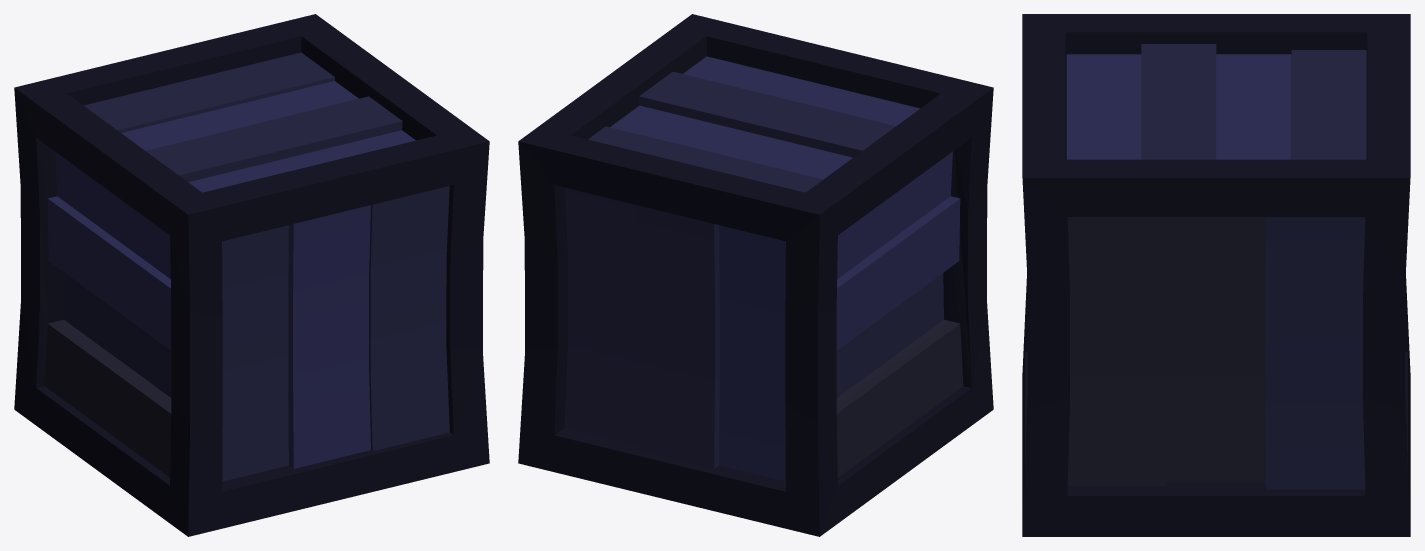
File: Crate2.fbx
3 renders of one model, left to right at view 1: azimuth 30°, elevation 25°; view 2: azimuth 150°, elevation 25°; view 3: azimuth 270°, elevation 25°, orthographic. The views are drawn at different scales.
Parts seen in each view (by area): view 1: Box020; view 2: Box020; view 3: Box020.
Part boxes in pixels (box(x1,y1,x2,y2)): Box020: box(14, 14, 489, 536); Box020: box(518, 14, 993, 536); Box020: box(1022, 14, 1410, 536).
Bounding box in the file's own units: 30 × 30 × 30.63.
